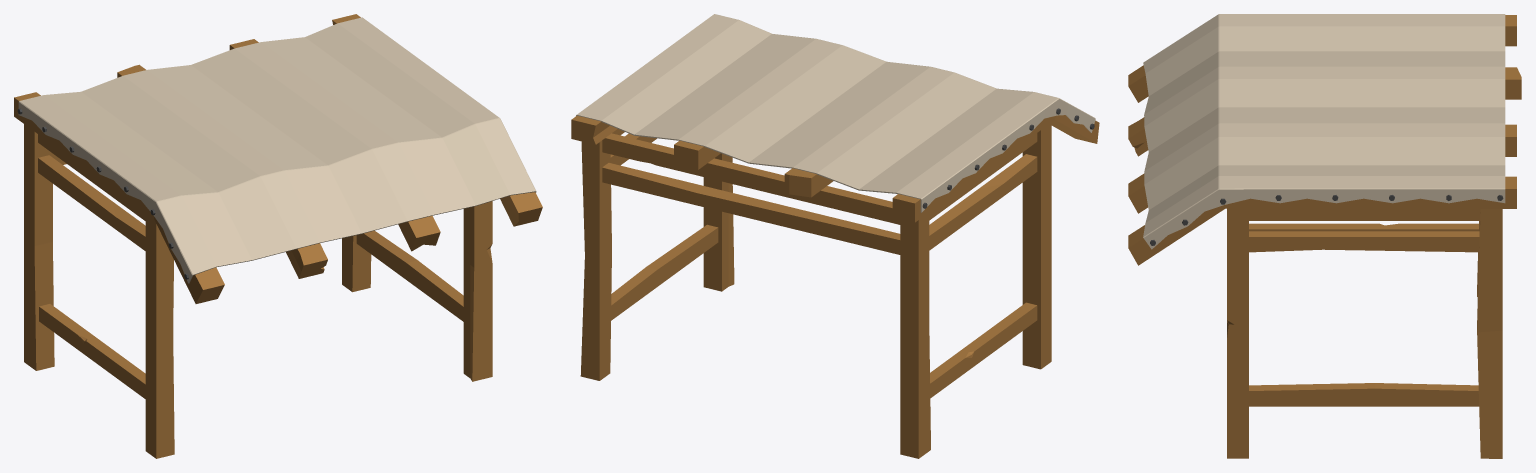
The model's file is Canopy.fbx.
3 renders of one model, left to right at view 1: azimuth 30°, elevation 25°; view 2: azimuth 150°, elevation 25°; view 3: azimuth 270°, elevation 25°, orthographic. The views are drawn at different scales.
Parts seen in each view (by area): view 1: Canopy; view 2: Canopy; view 3: Canopy.
Part boxes in pixels (<box>): Canopy: <box>14,14,542,458</box>; Canopy: <box>571,14,1099,458</box>; Canopy: <box>1128,14,1521,458</box>.
Size of the model in its own units: 362 by 340 by 259.
